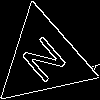N: (19, 34, 76, 93)
